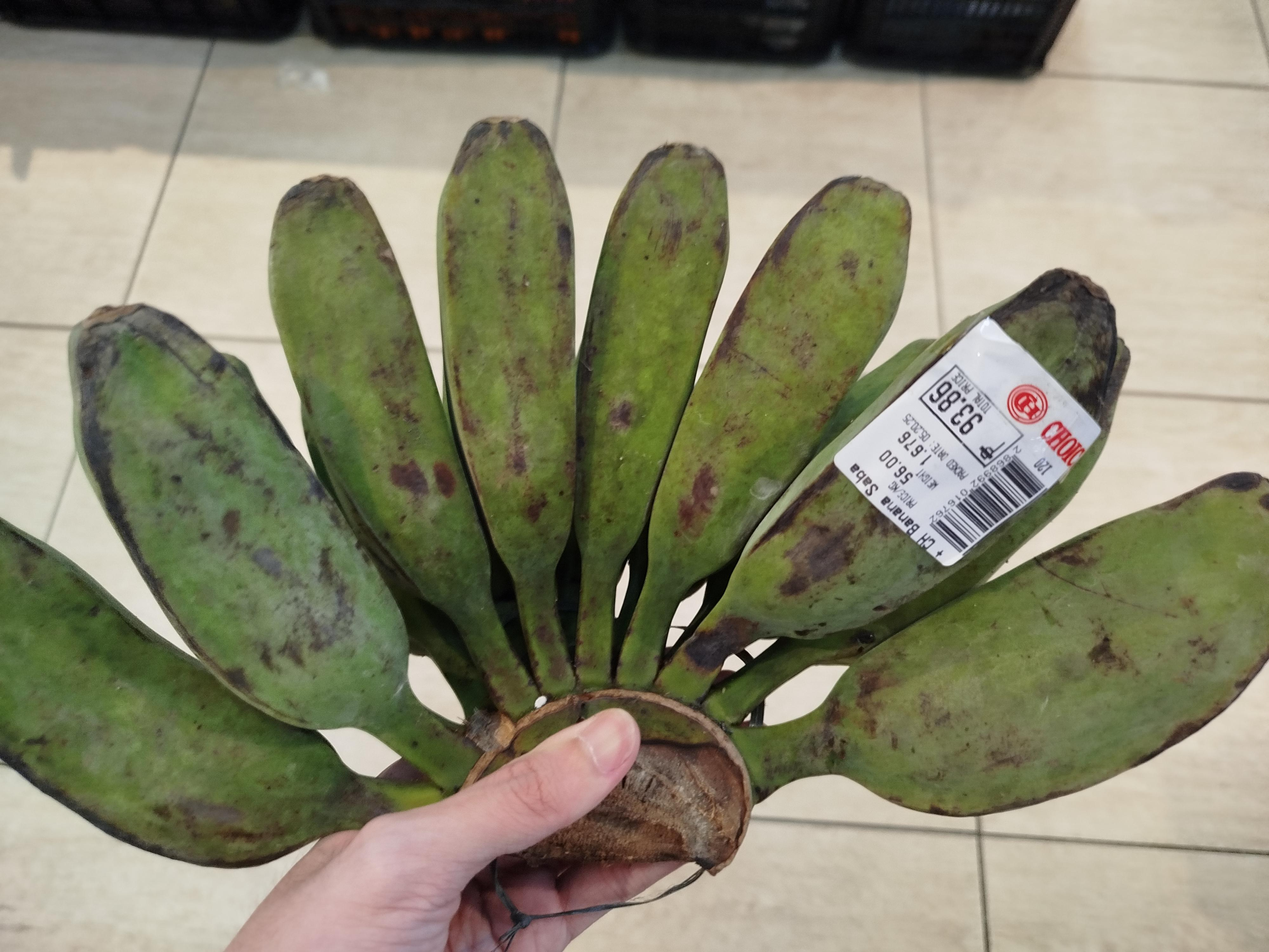underripe: (0, 121, 1269, 869)
